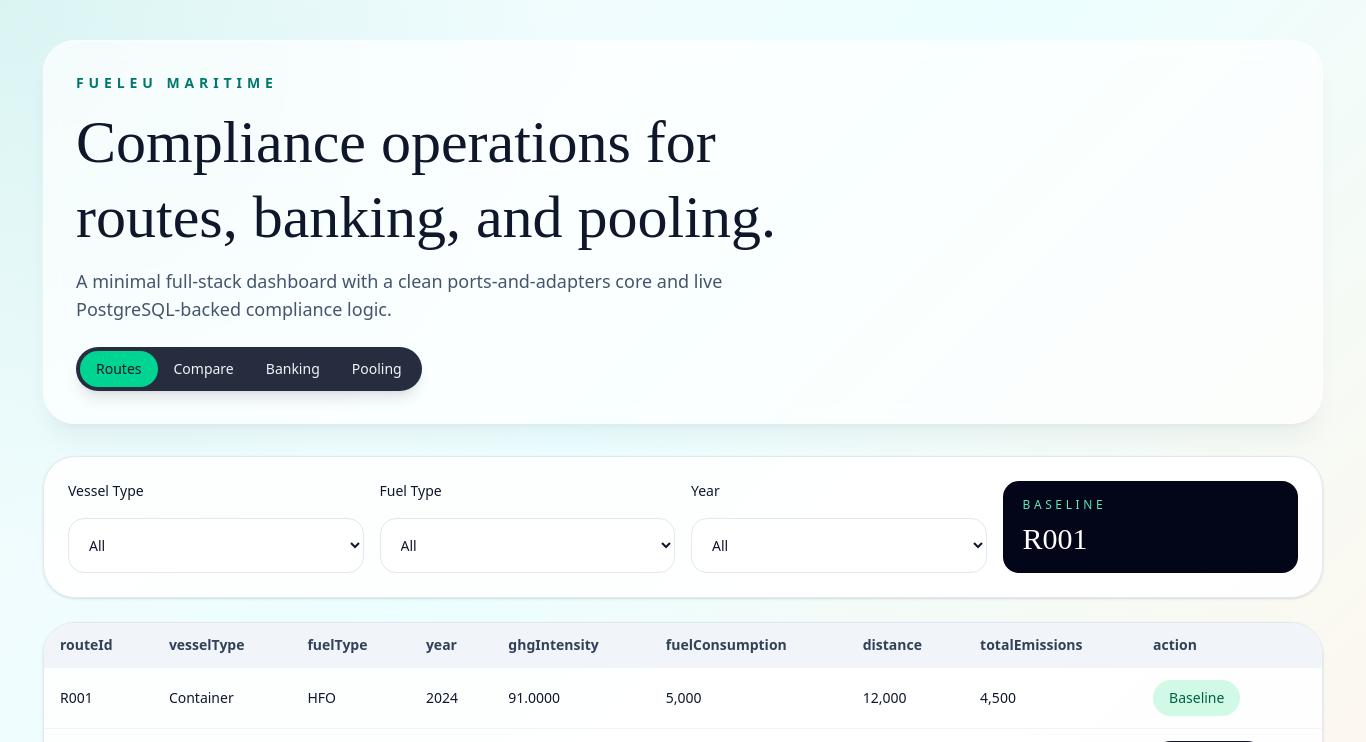
it: App › renders routes and compare data
Click the button "Compare".
click(204, 369)  # box top-left (158, 351), bottom-right (250, 387)
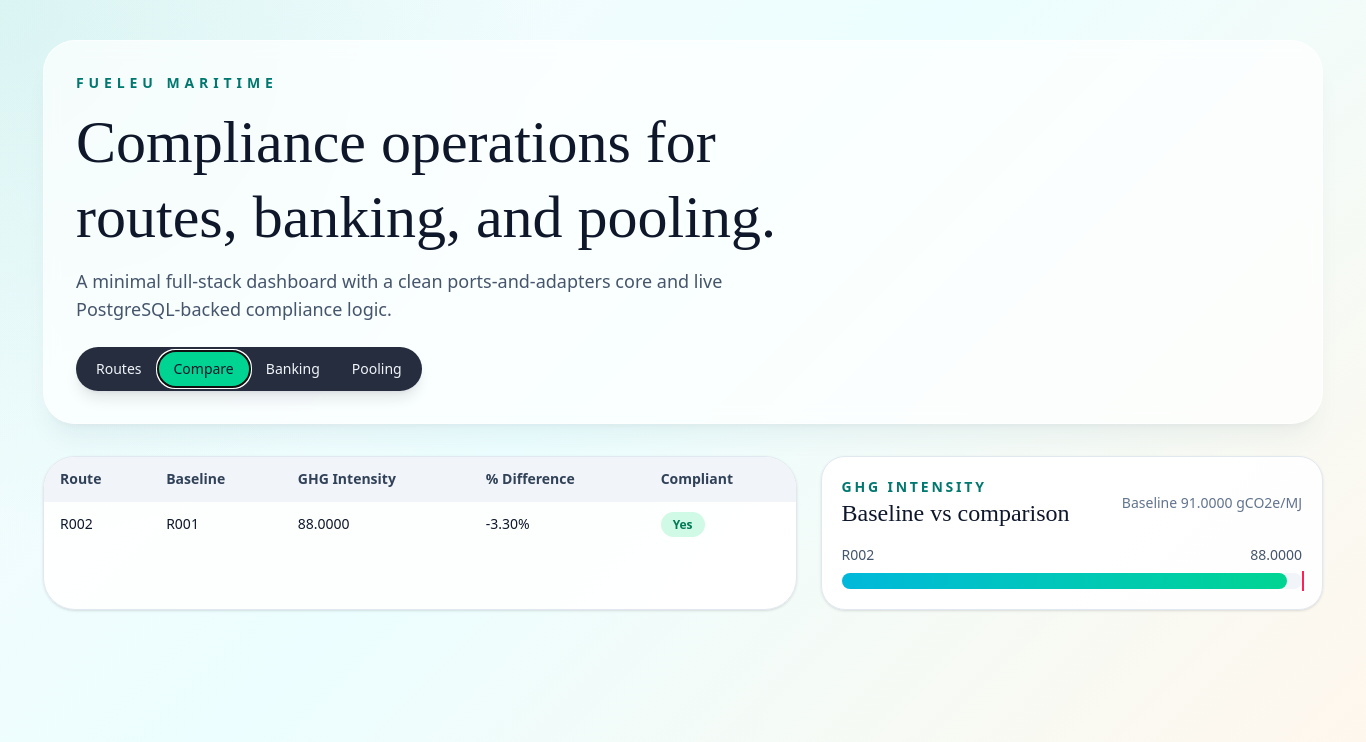
Now the heading "Baseline vs comparison" is shown, box top-left (842, 497), bottom-right (1070, 529)
Now the text "Yes" is shown, box top-left (661, 512), bottom-right (705, 537)
